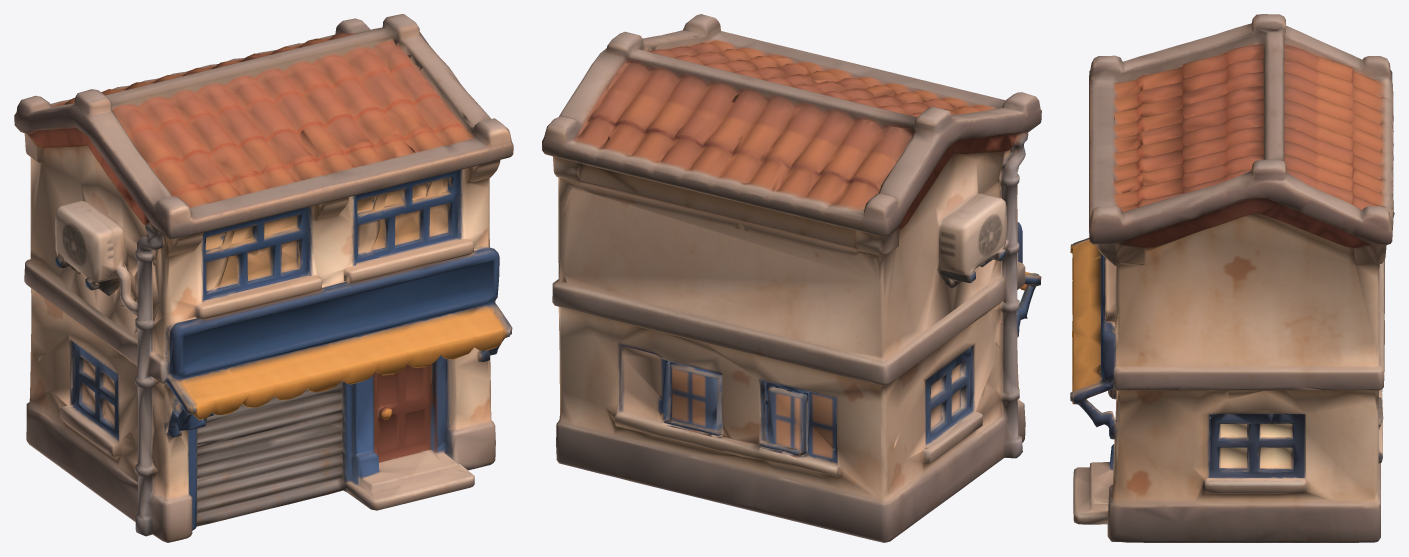
File: StreetShopfrontAI.fbx
The picture shows the model from 3 angles, left to right: view 1: azimuth 30°, elevation 25°; view 2: azimuth 150°, elevation 25°; view 3: azimuth 270°, elevation 25°; orthographic projection. The views are drawn at different scales.
Parts seen in each view (by area): view 1: StreetShopfrontAI_RuntimeMesh; view 2: StreetShopfrontAI_RuntimeMesh; view 3: StreetShopfrontAI_RuntimeMesh.
Boxes of the visible parts, x1=… form: StreetShopfrontAI_RuntimeMesh: x1=14, y1=14, x2=513, y2=542; StreetShopfrontAI_RuntimeMesh: x1=542, y1=14, x2=1041, y2=542; StreetShopfrontAI_RuntimeMesh: x1=1070, y1=14, x2=1394, y2=542.
Bounding box in the file's own units: 4.77 × 4.8 × 3.77.
